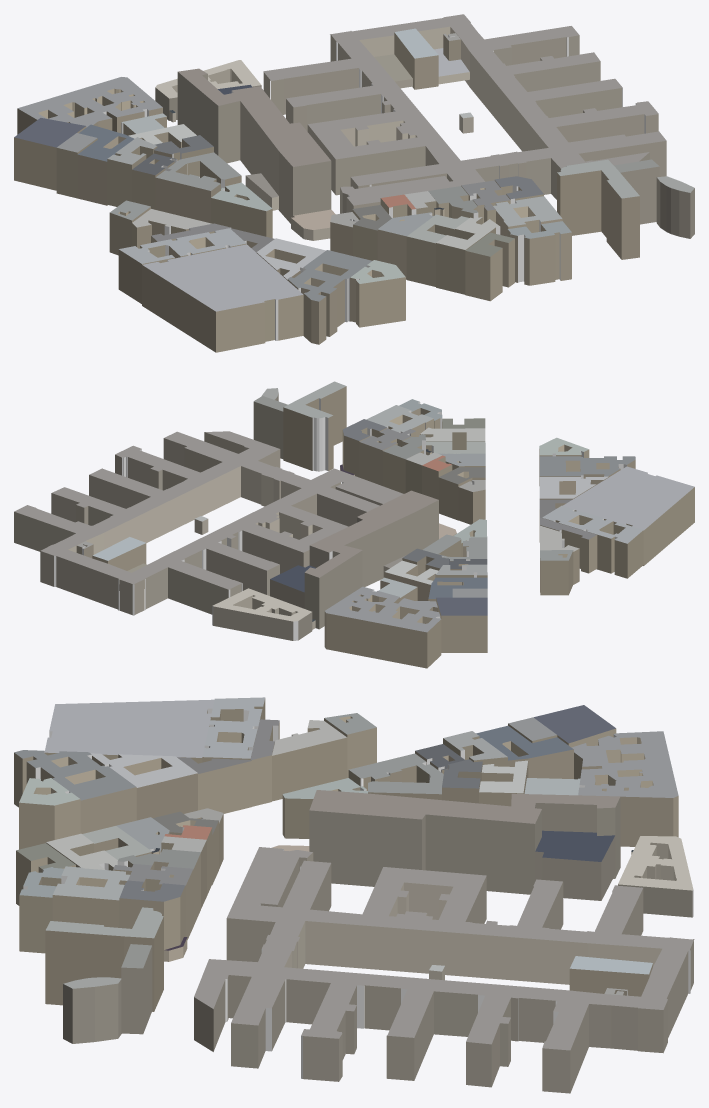
3 renders of one model, top to bottom at view 1: azimuth 30°, elevation 25°; view 2: azimuth 150°, elevation 25°; view 3: azimuth 270°, elevation 25°, orthographic. The views are drawn at different scales.
Visible parts, largest first — view 1: tuile; view 2: tuile; view 3: tuile.
Boxes of the visible parts, bbox=[...] form: tuile: bbox=[14, 14, 694, 352]; tuile: bbox=[14, 381, 694, 668]; tuile: bbox=[14, 697, 694, 1093].
Size of the model in its own units: 324 by 35.05 by 274.
